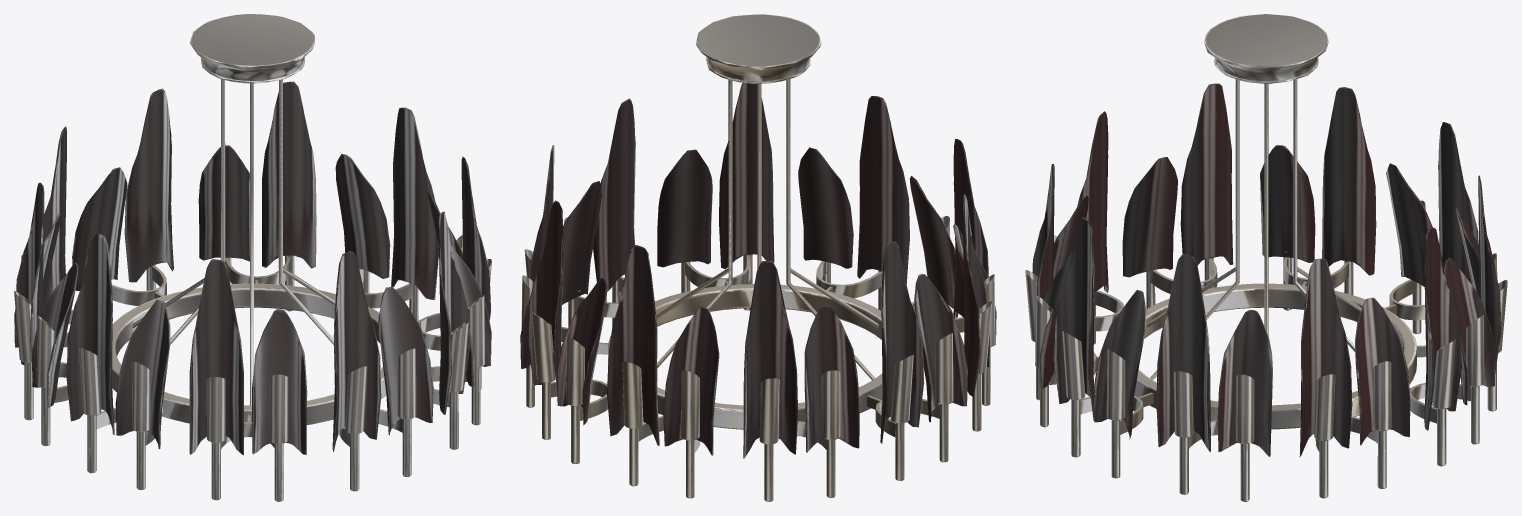
Rendered from raw_model.obj.
3 views of the same model, side by side, from view 1: azimuth 30°, elevation 25°; view 2: azimuth 150°, elevation 25°; view 3: azimuth 270°, elevation 25° (orthographic).
Visible parts, largest first — view 1: glass_001, solid_002; view 2: glass_001, solid_002; view 3: glass_001, solid_002.
Boxes of the visible parts, x1,y1,x2,y2 form: glass_001: (14,81,491,455); solid_002: (14,14,491,501); glass_001: (520,82,996,458); solid_002: (521,14,995,501); glass_001: (1032,83,1501,457); solid_002: (1025,14,1507,501).
Size of the model in its own units: 0.9114 by 0.7657 by 0.9184.
Materials: 1 (1 with a texture image).
